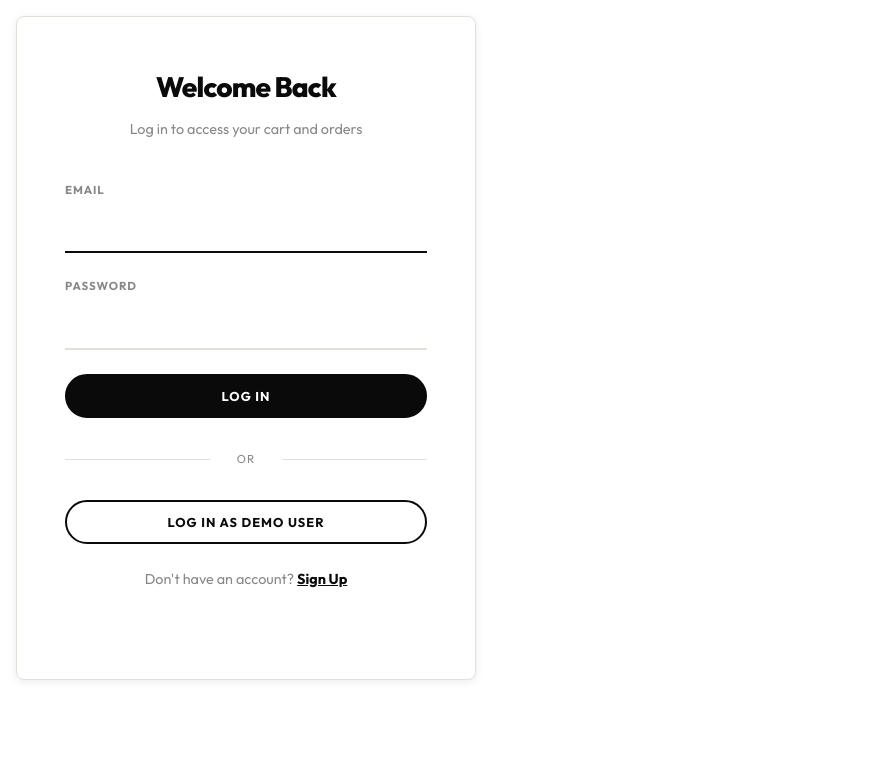
it: LoginPage Component › displays error on failed login
Type "test@example.com" into the field labelled "Email". click: x=246, y=230
box: [65,207,427,253]
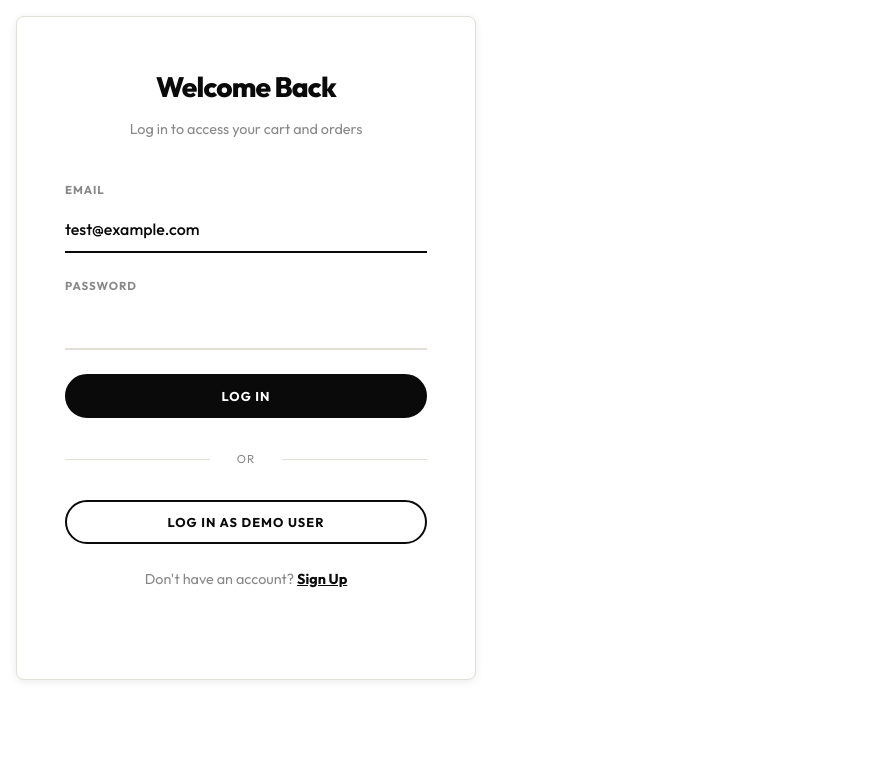
Type "wrong" into the password field labelled "Password". click: x=246, y=327
box: [65,304,427,350]
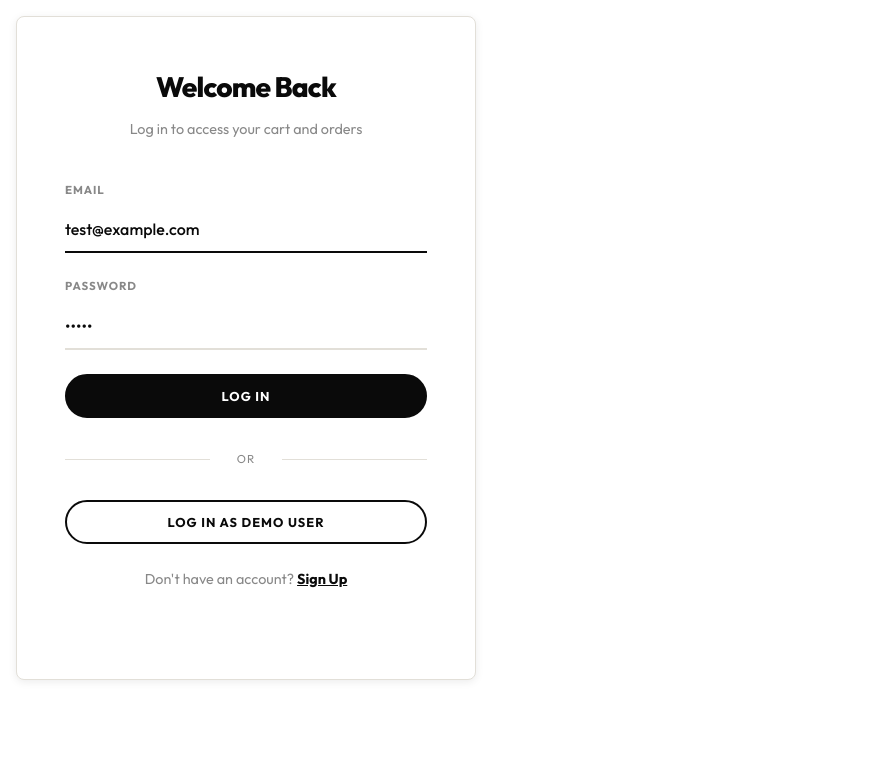
Click the button "Log In". click: x=246, y=396
box: [65,374,427,418]
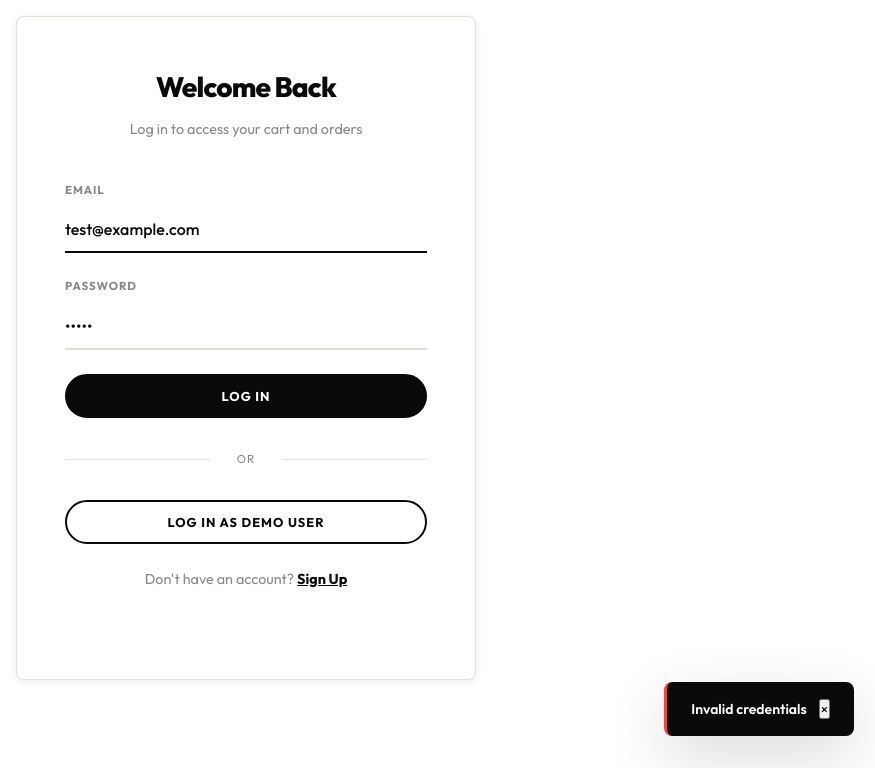
Now the text "Invalid credentials" is shown, box [691,698,807,720]
